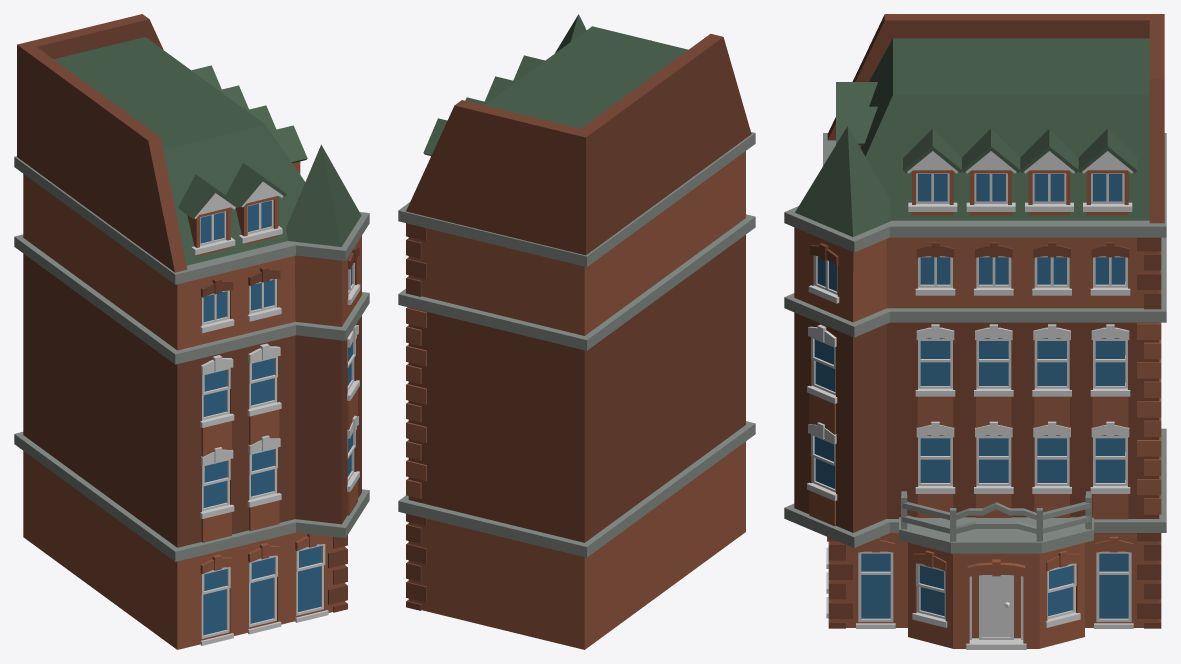
Rendered from House6.gltf.
3 views of the same model, side by side, from view 1: azimuth 30°, elevation 25°; view 2: azimuth 150°, elevation 25°; view 3: azimuth 270°, elevation 25° (orthographic). The views are drawn at different scales.
Visible parts, largest first — view 1: House6; view 2: House6; view 3: House6.
Part boxes in pixels (x1,y1,x2,y2): House6: [14, 14, 369, 649]; House6: [398, 14, 755, 649]; House6: [784, 14, 1166, 649].
Size of the model in its own units: 8.09 by 17.08 by 11.29.
2 materials, 1 textured.
